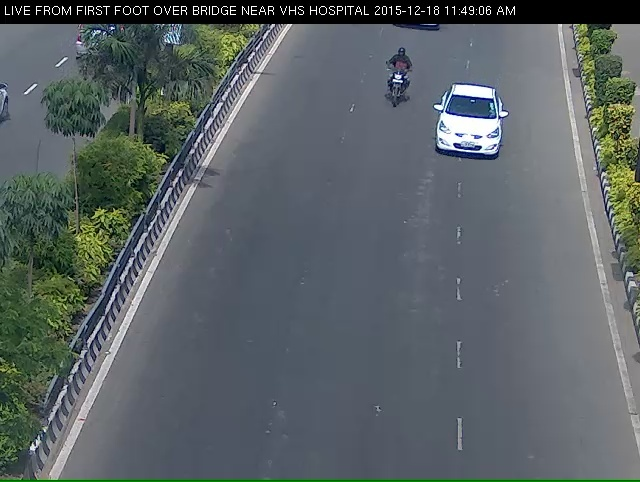Car: (435, 86, 505, 168)
Person: (378, 51, 406, 117)
